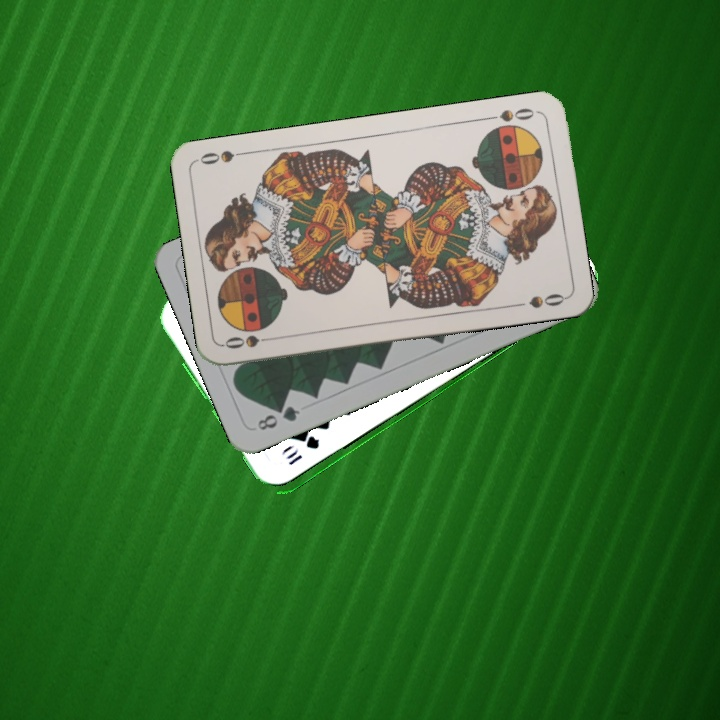G10: (284, 434, 323, 468)
G8: (253, 401, 303, 433)
SO: (221, 331, 280, 351), (482, 104, 541, 124)
